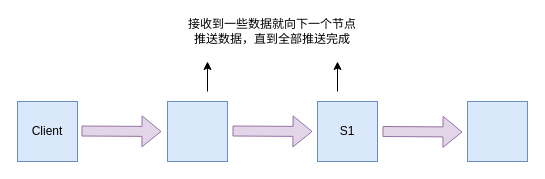
Some shapes in this 545 by 179 pixel diagram are drawn without their labels. The shapes that lost their labels are listed below. From the top down, each one's centre as x and y in pixels, then its label:
At point 197,131: "S2".
At point 497,131: "S3".
